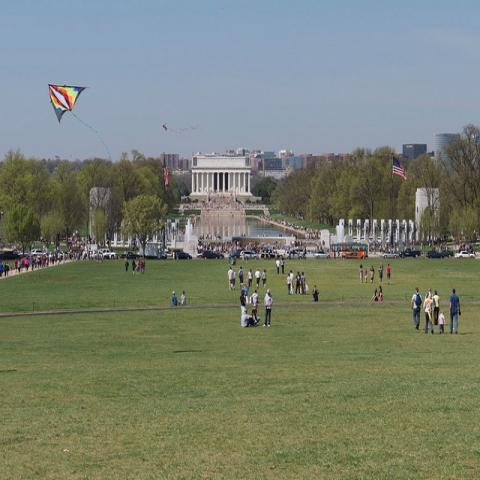bus: (330, 243, 368, 258)
car: (20, 242, 369, 263), (399, 247, 421, 259), (454, 250, 476, 260), (438, 248, 454, 258), (230, 249, 244, 260), (240, 251, 257, 260), (202, 251, 219, 260), (426, 251, 444, 259), (313, 250, 330, 258), (380, 251, 397, 259), (284, 250, 300, 258), (178, 252, 192, 260), (125, 250, 136, 260), (31, 249, 44, 256)
